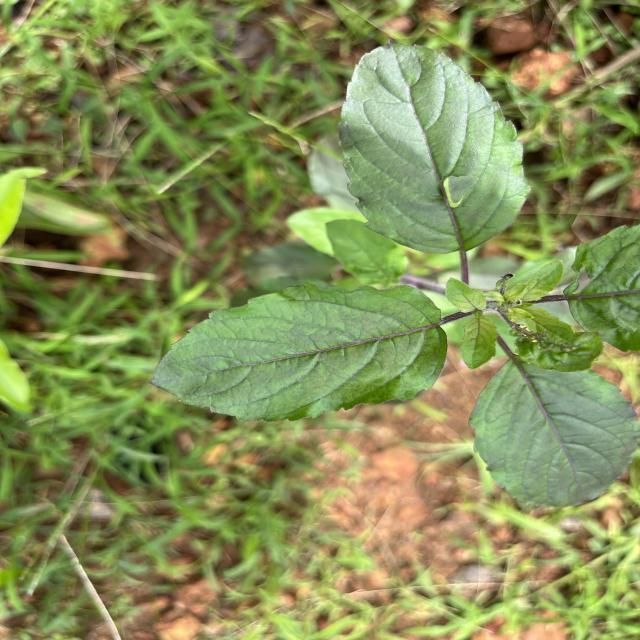Ocimum tenuiflorum: (143, 274, 458, 428), (331, 37, 538, 259)
